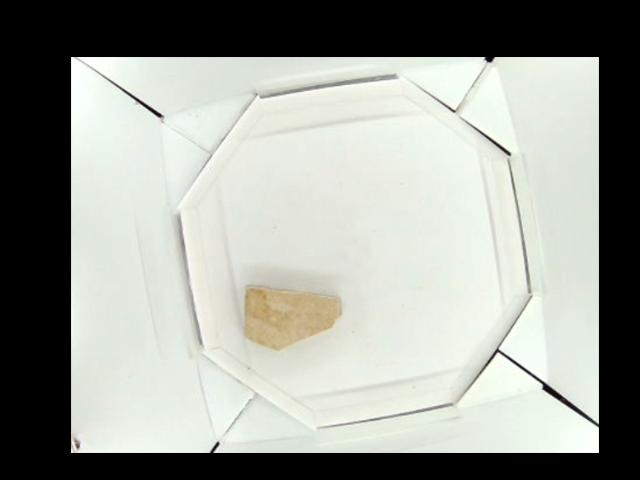China: (242, 283, 339, 345)
